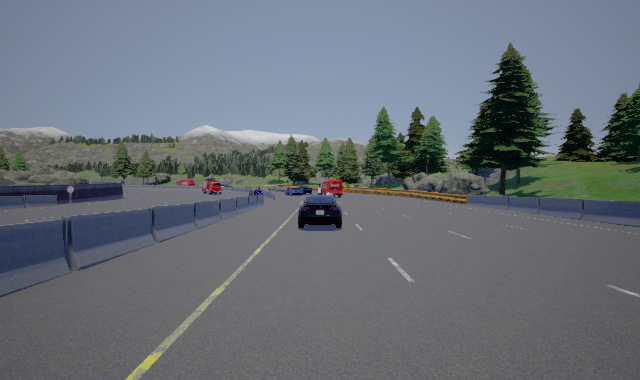vehicle: (298, 194, 342, 228), (317, 179, 344, 197), (269, 185, 312, 196), (202, 181, 224, 196)
